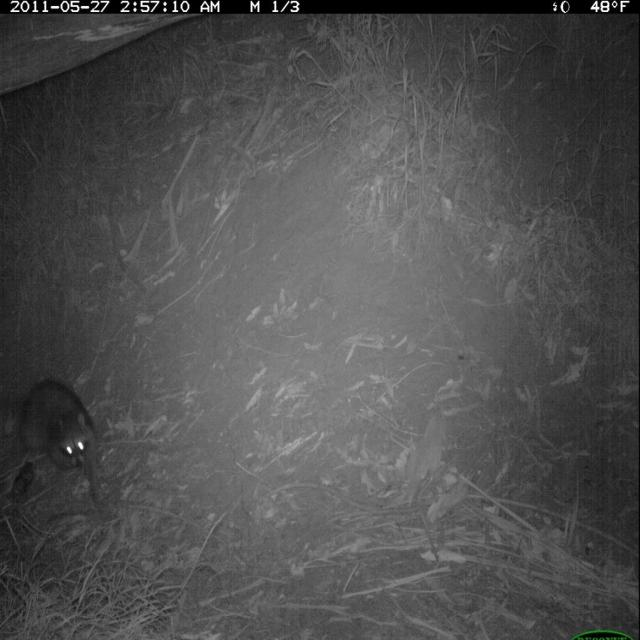raccoon: (7, 369, 116, 526)
